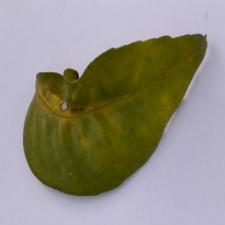Greening: (22, 57, 201, 180)
